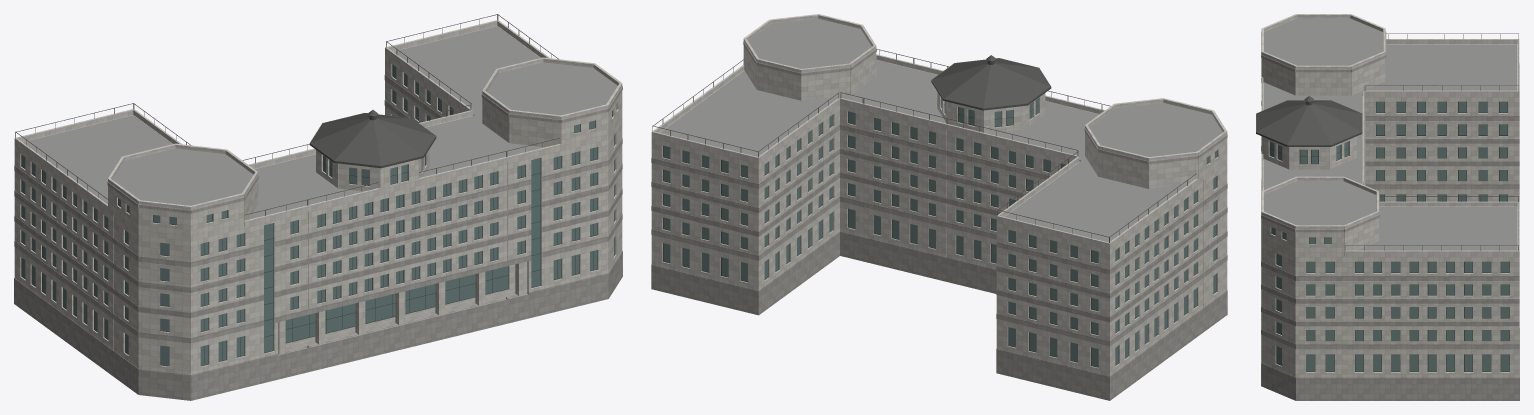
3 views of the same model, side by side, from view 1: azimuth 30°, elevation 25°; view 2: azimuth 150°, elevation 25°; view 3: azimuth 270°, elevation 25° (orthographic). The views are drawn at different scales.
Parts seen in each view (by area): view 1: beomjeong__granite, beomjeong__band, beomjeong__roof, beomjeong__glass, beomjeong__metal, beomjeong__frame; view 2: beomjeong__granite, beomjeong__roof, beomjeong__band, beomjeong__glass, beomjeong__metal, beomjeong__frame; view 3: beomjeong__granite, beomjeong__roof, beomjeong__band, beomjeong__glass, beomjeong__metal, beomjeong__frame.
Boxes of the visible parts, <box> form: beomjeong__granite: <box>14,20,622,374</box>; beomjeong__band: <box>14,75,622,400</box>; beomjeong__roof: <box>23,26,617,219</box>; beomjeong__glass: <box>21,65,617,365</box>; beomjeong__metal: <box>15,14,559,215</box>; beomjeong__frame: <box>21,64,615,366</box>; beomjeong__granite: <box>651,14,1227,376</box>; beomjeong__roof: <box>660,18,1222,242</box>; beomjeong__band: <box>651,41,1227,400</box>; beomjeong__glass: <box>663,98,1217,367</box>; beomjeong__metal: <box>652,49,1196,242</box>; beomjeong__frame: <box>663,105,1217,367</box>; beomjeong__granite: <box>1261,14,1519,377</box>; beomjeong__roof: <box>1264,18,1516,250</box>; beomjeong__band: <box>1261,31,1519,400</box>; beomjeong__glass: <box>1270,101,1508,371</box>; beomjeong__metal: <box>1256,33,1519,250</box>; beomjeong__frame: <box>1269,101,1509,371</box>.
Size of the model in its own units: 84.32 by 36.7 by 44.15.
Materials: 6 (2 with a texture image).
